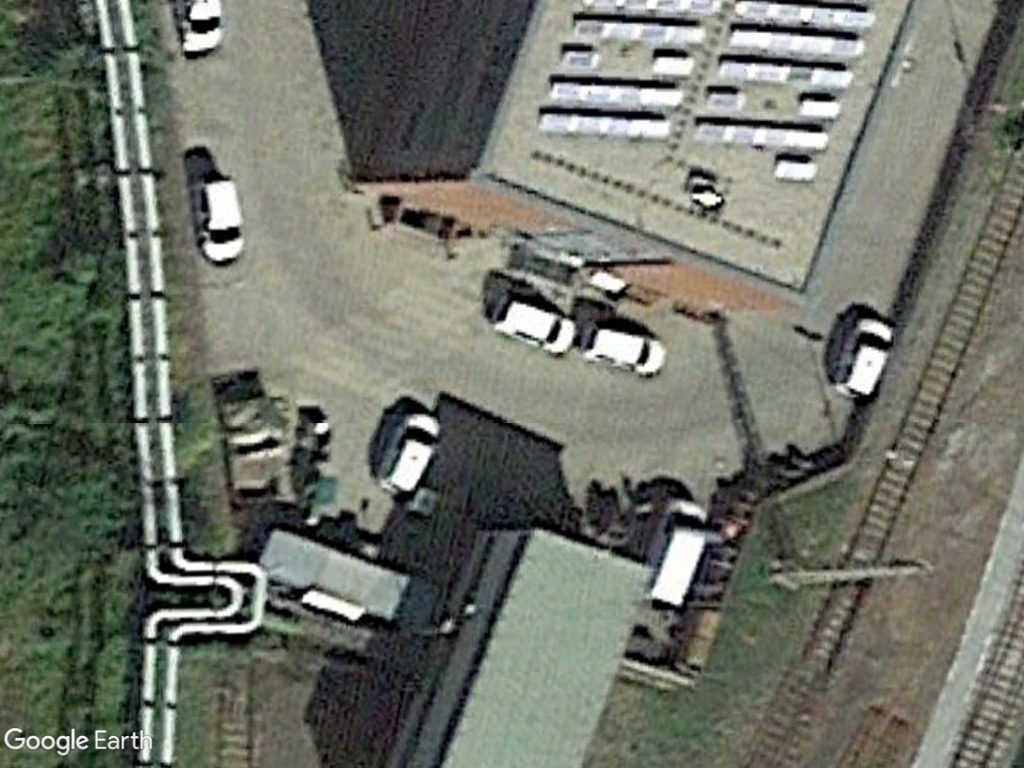car: (496, 287, 577, 358), (589, 316, 668, 377)
van: (636, 498, 712, 611), (182, 170, 254, 268), (373, 412, 447, 498), (830, 312, 895, 403)
